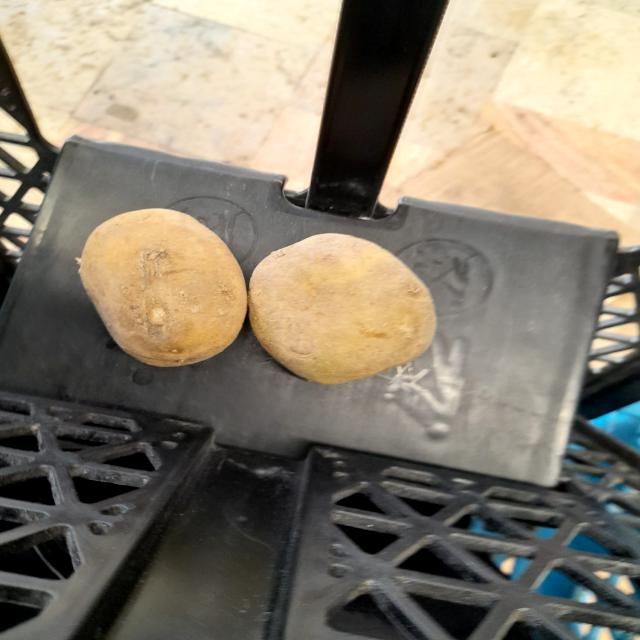potato: (240, 214, 444, 384), (64, 193, 255, 367)
